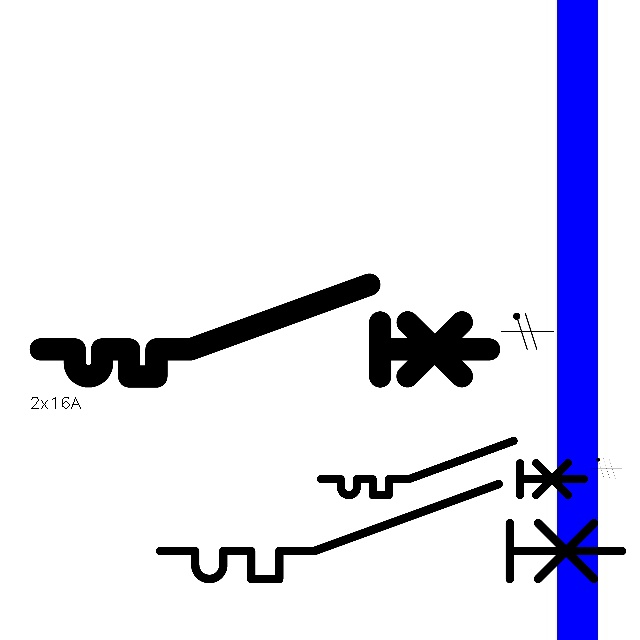interruptor_termomagnetico: (148, 472, 634, 591), (29, 273, 500, 388), (314, 434, 591, 502)
